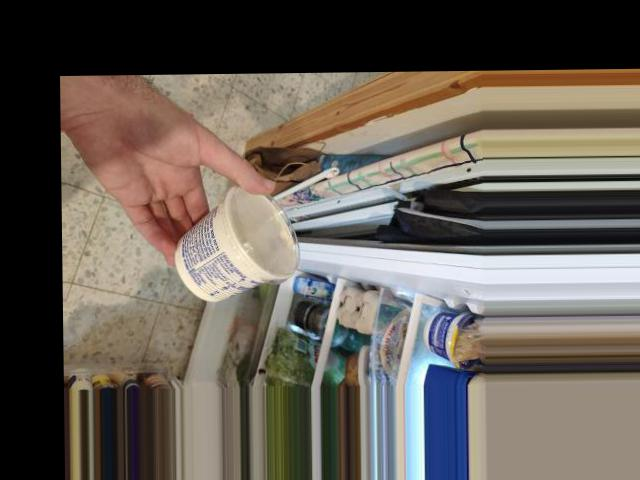cotage: (184, 192, 304, 297)
